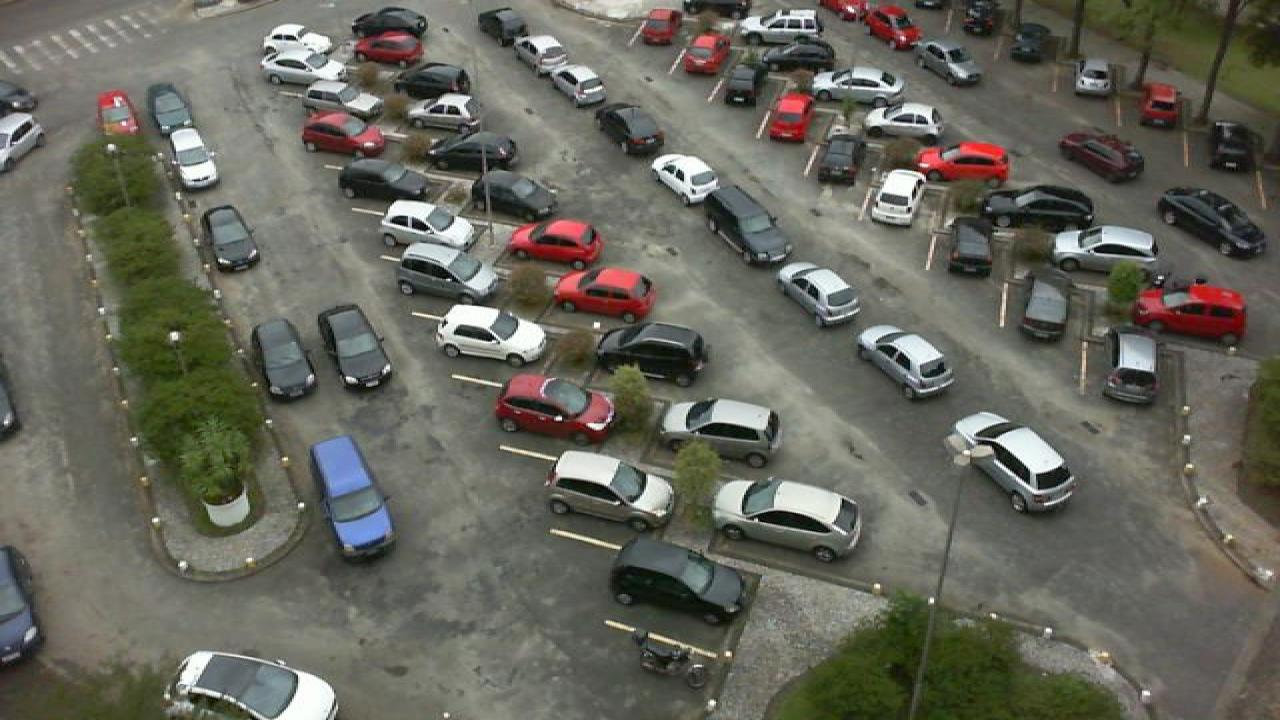Car: (944, 409, 1080, 513), (710, 476, 864, 562), (164, 650, 342, 720), (608, 536, 748, 624), (308, 433, 398, 563), (542, 448, 670, 530), (490, 371, 616, 446), (658, 396, 786, 469), (1156, 187, 1268, 260), (1130, 279, 1252, 343), (854, 323, 958, 398), (700, 186, 796, 266), (594, 321, 710, 387), (434, 302, 550, 366), (318, 304, 394, 391), (392, 243, 496, 304), (550, 267, 658, 325), (776, 260, 864, 327), (986, 182, 1098, 232), (1050, 224, 1164, 273), (252, 318, 320, 400), (376, 199, 478, 250), (1096, 331, 1164, 404), (504, 217, 604, 266), (334, 156, 434, 204), (1056, 131, 1148, 181), (298, 110, 392, 158), (472, 171, 558, 223), (198, 205, 262, 272), (430, 130, 522, 174), (914, 142, 1012, 183), (648, 152, 722, 206), (594, 102, 666, 154), (300, 78, 384, 122), (1018, 271, 1070, 342), (808, 66, 908, 102), (168, 126, 224, 188), (866, 168, 922, 227), (916, 40, 984, 88), (258, 54, 350, 89), (946, 216, 998, 276), (864, 101, 946, 137), (390, 62, 474, 97), (734, 9, 822, 41), (548, 63, 610, 108), (752, 37, 838, 69), (352, 28, 428, 64), (262, 22, 338, 58), (866, 4, 924, 50), (348, 6, 430, 38), (1210, 119, 1258, 173), (510, 34, 572, 75), (144, 82, 194, 132), (410, 95, 488, 127), (766, 91, 814, 141), (476, 5, 530, 48), (818, 134, 858, 187), (96, 89, 142, 135), (682, 32, 730, 76), (1138, 81, 1182, 129), (1072, 53, 1116, 97), (720, 63, 762, 108), (1006, 21, 1048, 63), (638, 7, 682, 47), (962, 0, 998, 38)
